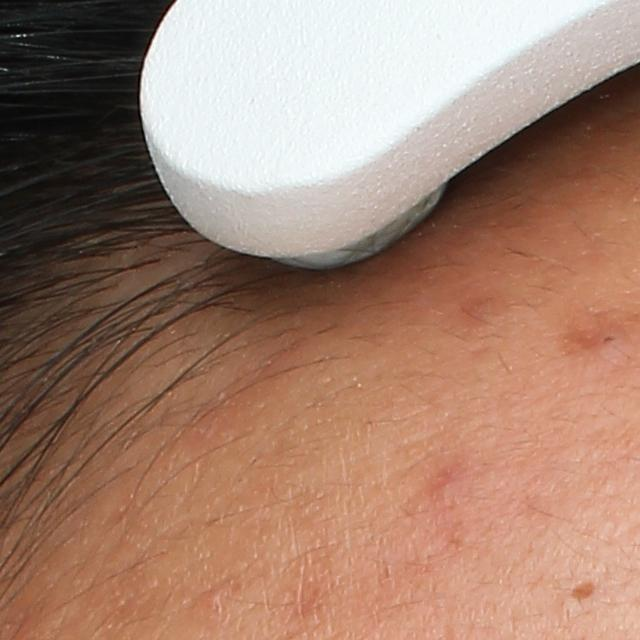atrophic_scar: (568, 580, 596, 602)
